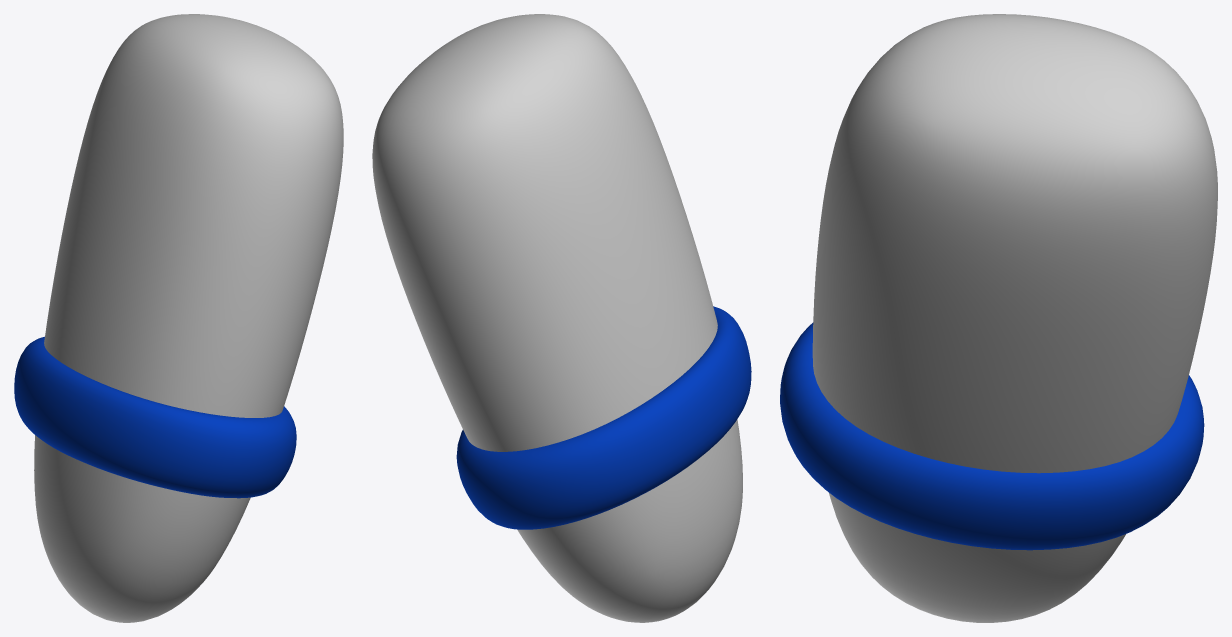
The model's file is arm.obj.
3 renders of one model, left to right at view 1: azimuth 30°, elevation 25°; view 2: azimuth 150°, elevation 25°; view 3: azimuth 270°, elevation 25°, orthographic. The views are drawn at different scales.
Parts seen in each view (by area): view 1: Cube.009; view 2: Cube.009; view 3: Cube.009.
Part boxes in pixels (left/top/right/bottom): Cube.009: left=14, top=14, right=343, bottom=622; Cube.009: left=372, top=14, right=751, bottom=622; Cube.009: left=780, top=14, right=1217, bottom=622.
Bounding box in the file's own units: 0.1985 × 0.3587 × 0.2173.
